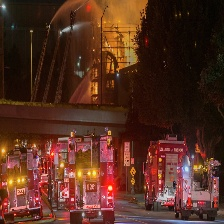fire: (101, 15, 139, 66)
